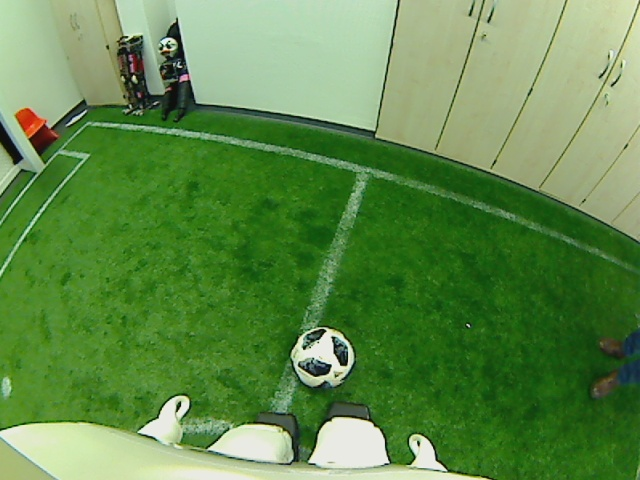ball: (290, 324, 356, 392)
